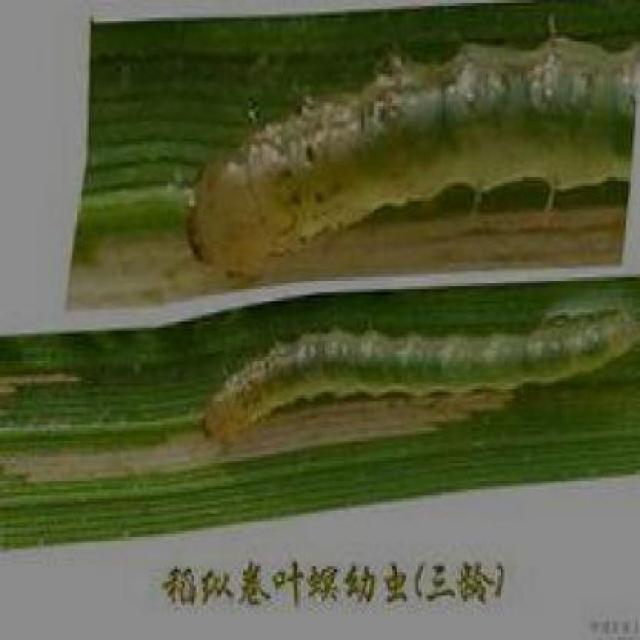leaf-folder: (123, 29, 640, 257), (163, 296, 639, 450)
